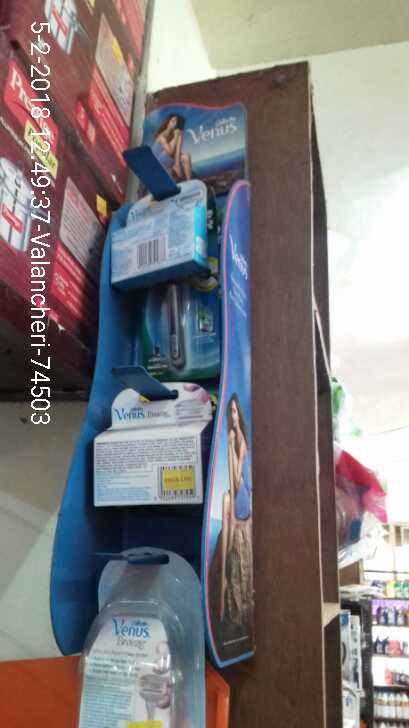reject: (194, 366, 242, 472)
